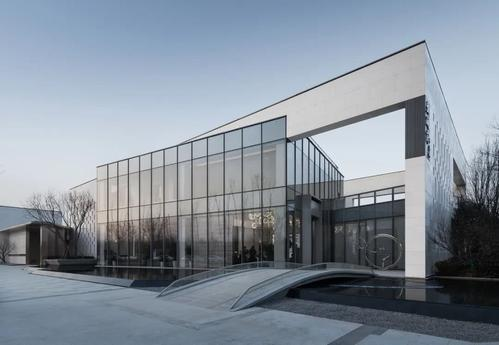buildings: (62, 58, 482, 283)
